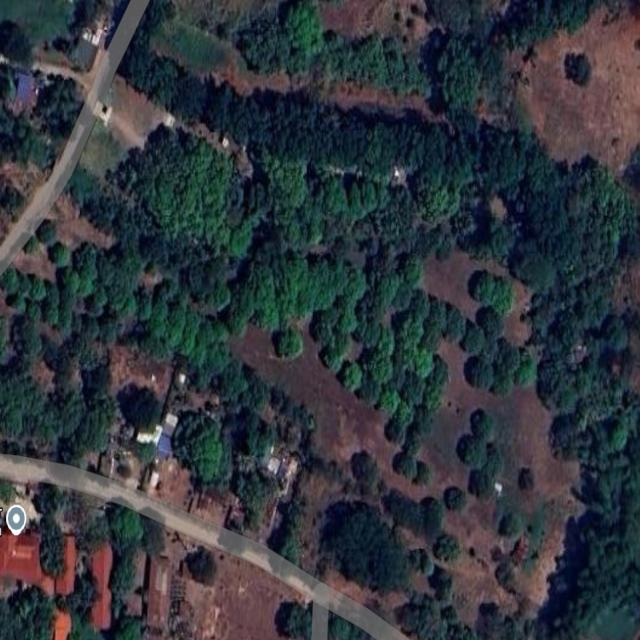Tree: (548, 436, 640, 640), (142, 143, 232, 247), (571, 158, 639, 282), (326, 503, 414, 594), (268, 98, 368, 178), (322, 29, 433, 101), (420, 122, 481, 223), (518, 149, 574, 252), (497, 0, 599, 54), (124, 121, 203, 188), (275, 255, 345, 326), (174, 413, 232, 493), (238, 15, 303, 82), (229, 258, 280, 340), (532, 359, 594, 425), (0, 354, 44, 444), (518, 293, 568, 372), (475, 121, 526, 192), (0, 107, 50, 178), (436, 34, 482, 111), (586, 350, 634, 423), (96, 249, 140, 322), (263, 146, 308, 214), (84, 192, 142, 244), (68, 400, 115, 464), (37, 391, 86, 452), (378, 186, 423, 247), (3, 587, 53, 640), (39, 71, 83, 131), (280, 0, 325, 57), (137, 234, 194, 278), (511, 240, 556, 295), (237, 472, 281, 526), (172, 69, 208, 132), (187, 250, 233, 299), (122, 34, 156, 96), (0, 17, 38, 71), (145, 54, 179, 114), (473, 216, 513, 267), (235, 407, 272, 462), (546, 256, 583, 311), (188, 344, 230, 392), (424, 0, 478, 37), (39, 334, 71, 394), (339, 265, 366, 335), (366, 119, 396, 182), (56, 571, 96, 618), (394, 113, 423, 176), (106, 498, 144, 546), (227, 209, 264, 258), (576, 280, 612, 330), (203, 78, 232, 140), (472, 271, 512, 315), (40, 515, 66, 579), (469, 445, 501, 497), (347, 178, 386, 220), (126, 386, 163, 430), (224, 361, 258, 408), (300, 183, 327, 242), (226, 93, 253, 152), (248, 96, 274, 157), (272, 521, 306, 567), (274, 598, 311, 640), (391, 489, 423, 537), (109, 552, 142, 597), (65, 334, 104, 372), (82, 360, 112, 409), (136, 507, 165, 557), (149, 275, 179, 321), (138, 2, 174, 40), (373, 268, 402, 314), (321, 335, 354, 375), (551, 415, 586, 452), (275, 202, 303, 248), (474, 44, 505, 85), (313, 304, 341, 348), (185, 545, 219, 581), (439, 300, 465, 346), (608, 416, 637, 457), (195, 317, 228, 353), (164, 297, 187, 348), (33, 476, 62, 516), (138, 328, 172, 362), (352, 450, 378, 494), (324, 171, 348, 217), (258, 234, 286, 273), (70, 0, 102, 34), (80, 519, 109, 555), (604, 313, 632, 350), (477, 305, 505, 341), (17, 317, 44, 354), (460, 434, 489, 468), (56, 291, 78, 335), (180, 309, 200, 357), (557, 310, 581, 350), (426, 352, 451, 390), (431, 566, 456, 604), (210, 278, 237, 313), (407, 343, 432, 380), (513, 346, 536, 386), (424, 298, 448, 336), (65, 615, 101, 640), (493, 342, 521, 374), (409, 545, 437, 577), (276, 326, 302, 360), (71, 244, 99, 275), (464, 356, 492, 387), (98, 316, 125, 348), (410, 285, 432, 324), (486, 370, 514, 400), (418, 494, 444, 526), (391, 278, 414, 314), (359, 374, 384, 407), (430, 533, 459, 561), (278, 496, 304, 527), (399, 603, 423, 636), (397, 378, 424, 407), (567, 54, 591, 86), (391, 450, 416, 480), (400, 317, 424, 348), (471, 409, 495, 440), (383, 418, 409, 446), (77, 312, 101, 342), (404, 252, 424, 288), (376, 326, 397, 360), (409, 410, 432, 441), (359, 319, 383, 348), (370, 352, 392, 382), (340, 362, 362, 392), (115, 616, 142, 640), (463, 325, 485, 354), (34, 216, 57, 243), (402, 426, 424, 454), (420, 328, 440, 358), (379, 390, 402, 414), (138, 440, 158, 467), (53, 241, 71, 269), (60, 270, 79, 296), (412, 460, 432, 484), (43, 283, 62, 308), (138, 289, 152, 322), (88, 284, 106, 309), (397, 398, 412, 428), (447, 485, 466, 508), (5, 270, 22, 294), (74, 275, 92, 297), (502, 512, 520, 534), (269, 389, 284, 415), (16, 273, 33, 295), (25, 304, 44, 322), (11, 290, 26, 312), (22, 235, 38, 255), (31, 280, 47, 300), (284, 394, 297, 416), (43, 305, 58, 323)
